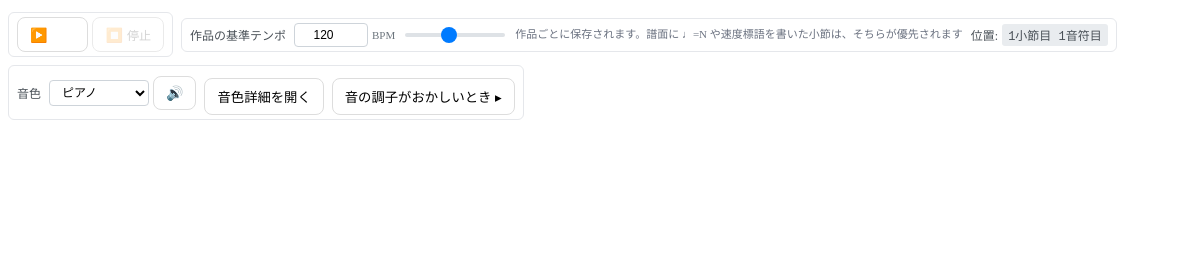
PlaybackControls › 基本的なレンダリング › すべての制御要素が表示される
Expected: the button "▶️ 再生" is shown, [17, 17, 88, 52]
Expected: the button "⏹️ 停止" is shown, [92, 17, 164, 52]
Click the button "音の調子がおかしいとき ▸" at (423, 96), box [332, 78, 515, 115]
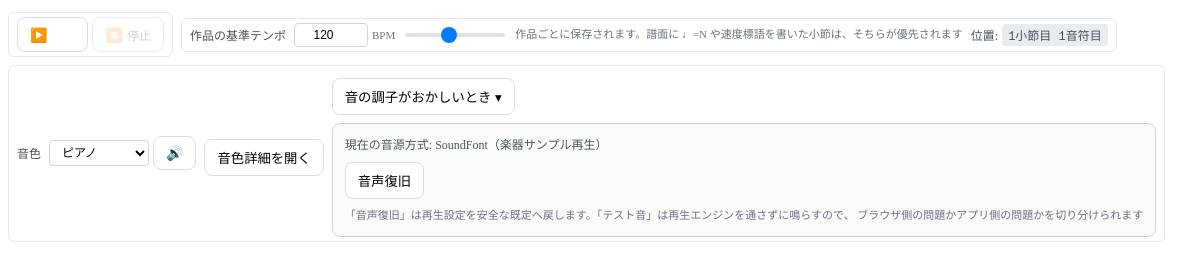
Now the button "音声復旧" is shown, box [345, 162, 424, 199]
